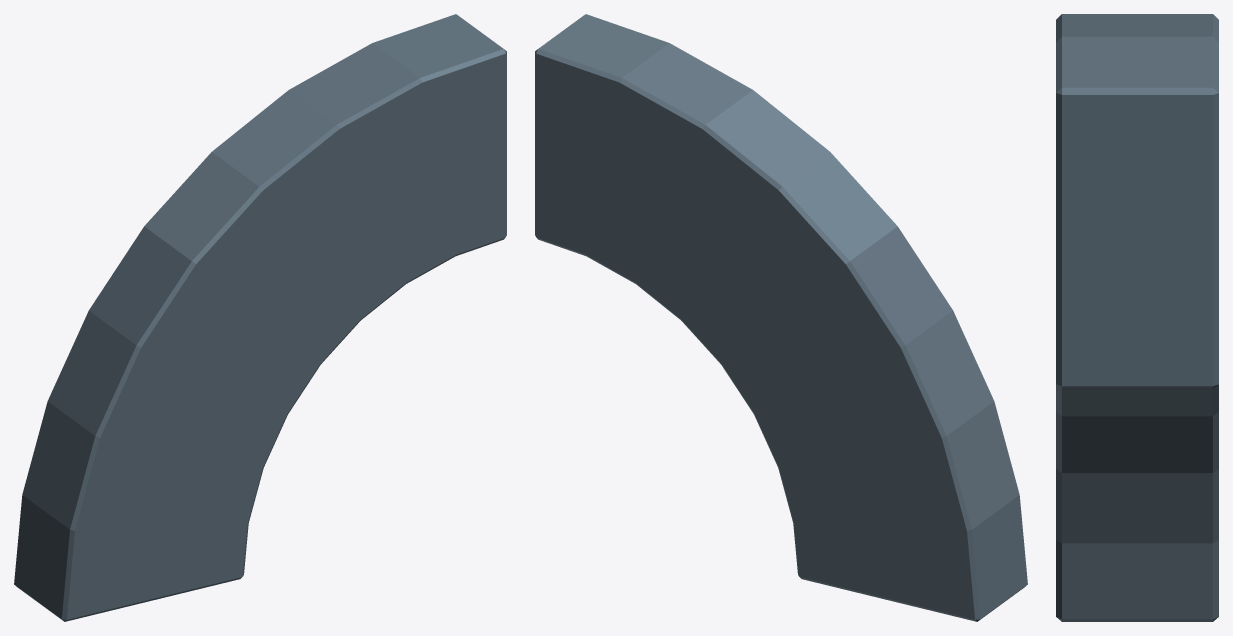
File: P36_Quarter_Arch.fbx
3 renders of one model, left to right at view 1: azimuth 30°, elevation 25°; view 2: azimuth 150°, elevation 25°; view 3: azimuth 270°, elevation 25°, orthographic. The views are drawn at different scales.
Visible parts, largest first — view 1: P36_Quarter_Arch; view 2: P36_Quarter_Arch; view 3: P36_Quarter_Arch.
Boxes of the visible parts, left/top/right/bottom form: P36_Quarter_Arch: left=14, top=14, right=506, bottom=621; P36_Quarter_Arch: left=535, top=14, right=1027, bottom=621; P36_Quarter_Arch: left=1056, top=14, right=1218, bottom=621.
Bounding box in the file's own units: 1.1 × 1.1 × 0.22.
Materials: 1 (1 with a texture image).
